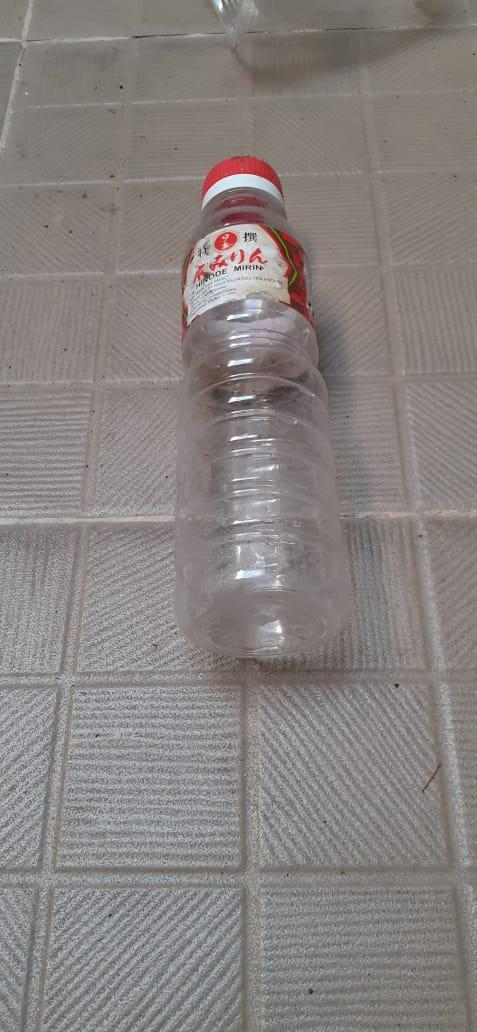Plastik: (178, 153, 349, 661)
